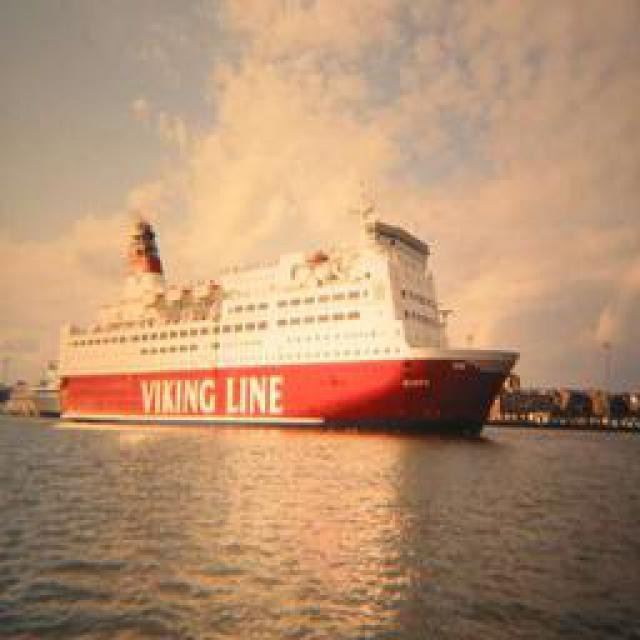Ship: (45, 146, 518, 429)
